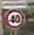limite 40: (5, 9, 25, 30)
